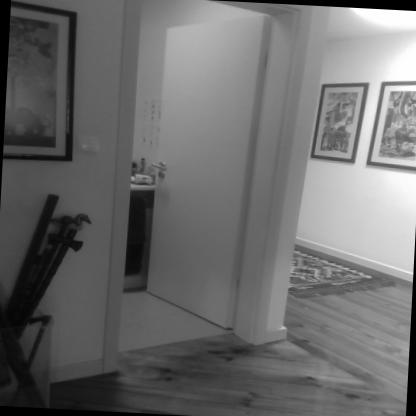open: (98, 0, 284, 373)
